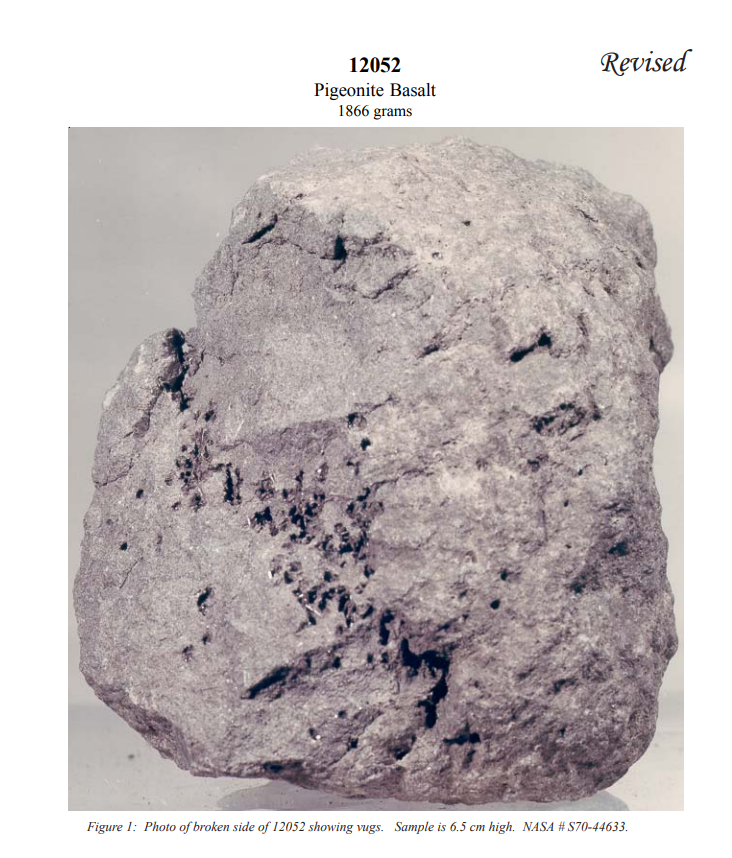Basalt: (87, 156, 674, 780)
